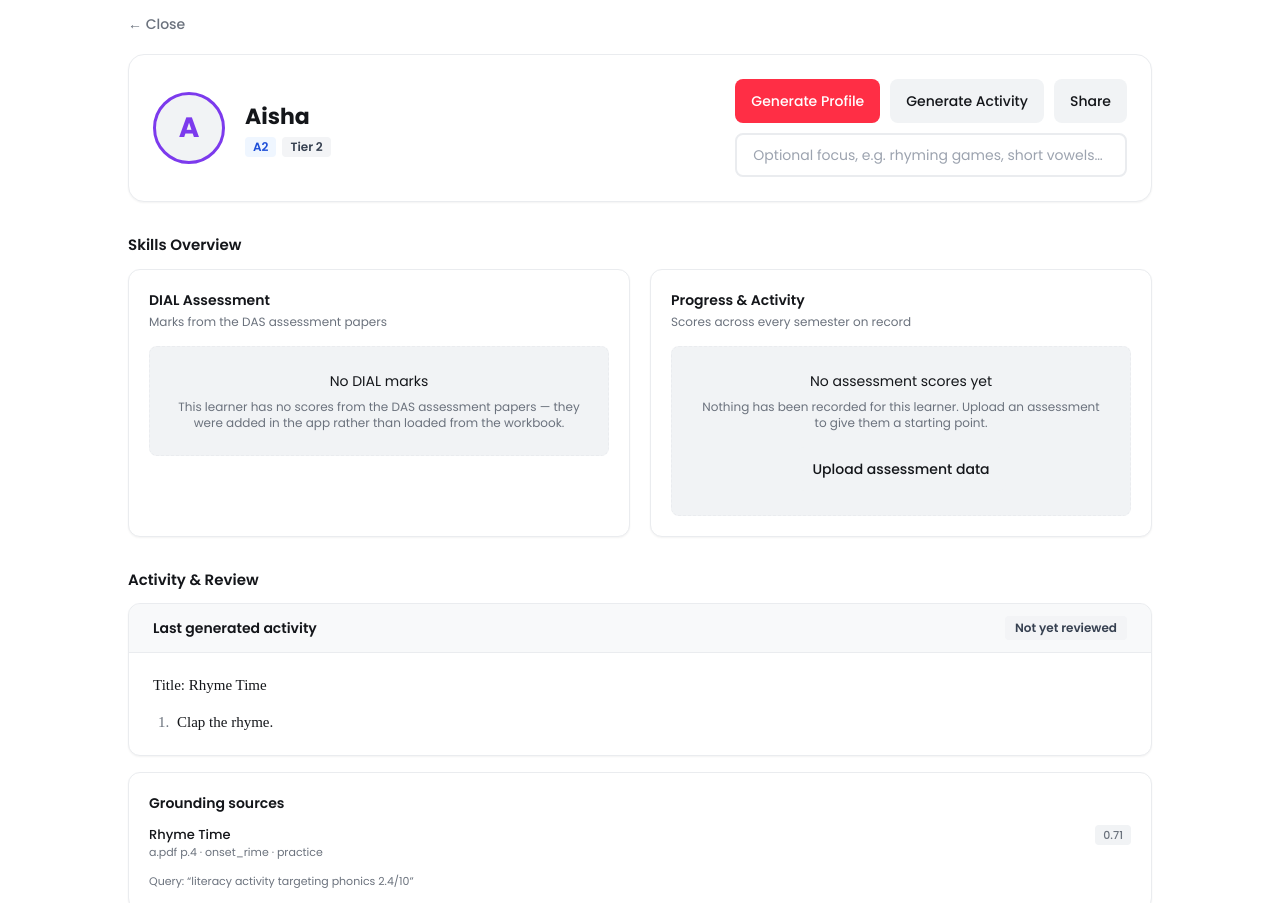
Test case: re-reads the activity list so the panel shows the new activity
Expected: the list item "Clap the rhyme." is shown, [177,714,273,730]
Click the button "Generate Activity" at (967, 101), box [890,79,1044,123]
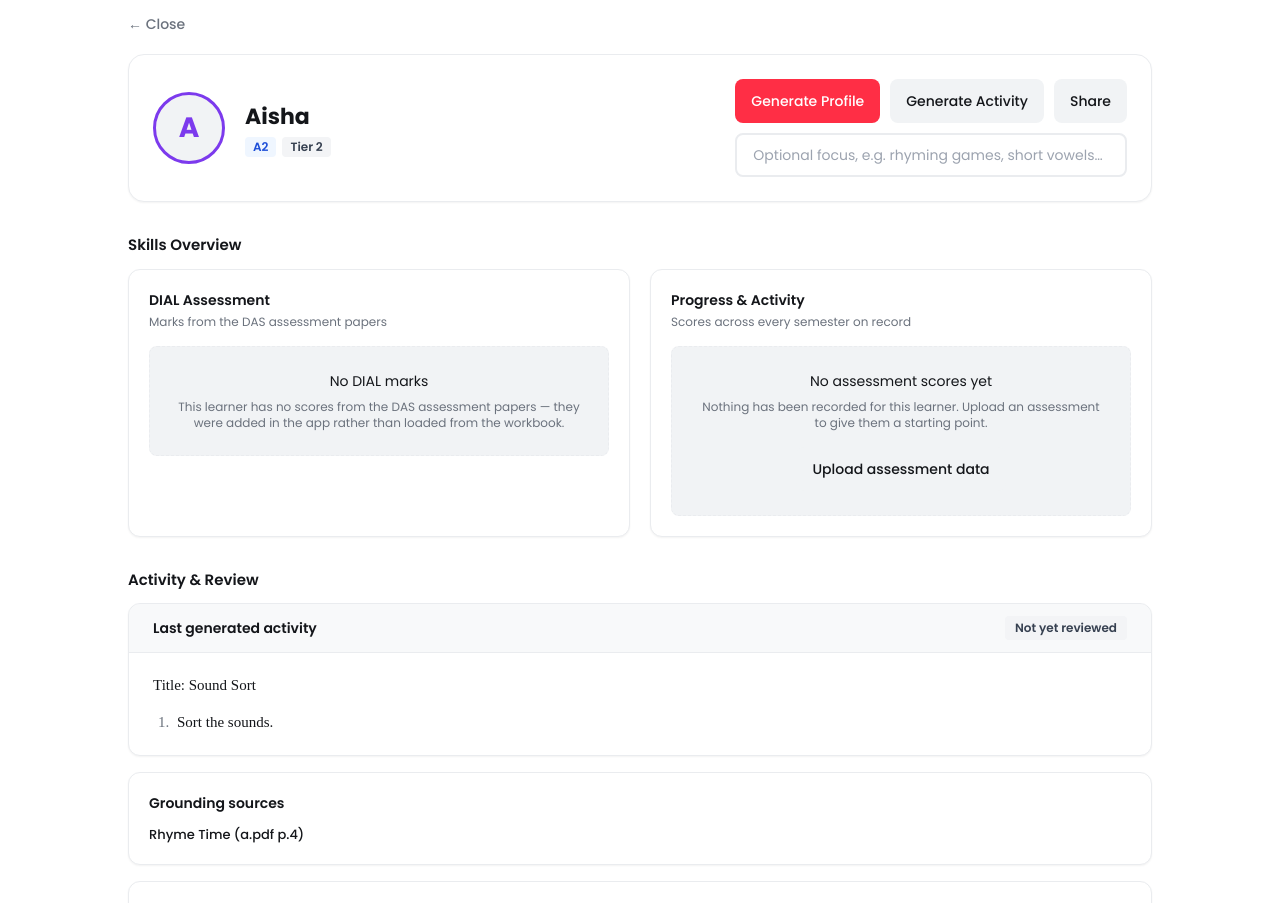
Expected: the list item "Sort the sounds." is shown, [177,714,273,730]
Expected: the list item "Clap the rhyme" is gone
